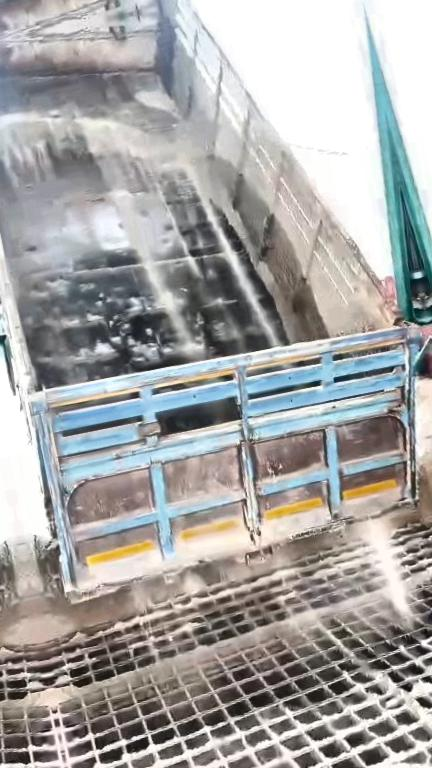sand: (32, 378, 432, 643), (0, 111, 307, 354), (51, 585, 406, 709), (362, 520, 410, 626), (380, 676, 432, 750), (405, 549, 432, 597), (135, 92, 172, 111)
